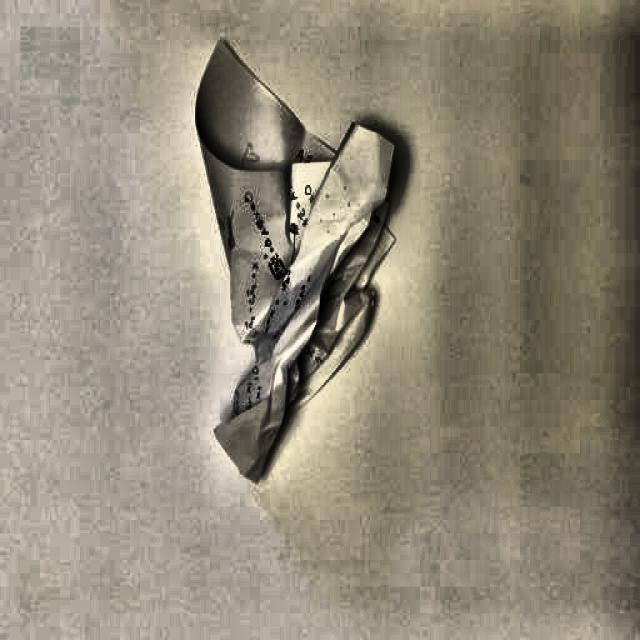paper: (192, 37, 398, 487)
